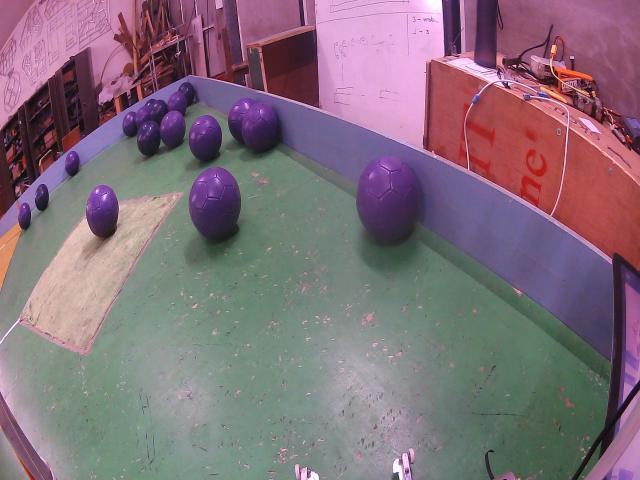jambhalya: (356, 157, 419, 242), (189, 167, 241, 240), (241, 103, 279, 152), (86, 185, 119, 238), (189, 115, 221, 160), (228, 98, 255, 142), (160, 110, 186, 148), (168, 92, 188, 115), (65, 150, 80, 177), (18, 202, 31, 230), (122, 112, 136, 137), (135, 105, 150, 128)
kaalyya: (138, 120, 161, 157), (150, 100, 168, 125), (35, 183, 49, 210), (179, 82, 195, 105), (146, 98, 156, 108)
